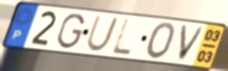2: (29, 11, 58, 48)
G: (56, 12, 86, 50)
L: (109, 17, 133, 57)
O: (144, 21, 177, 61)
U: (84, 15, 121, 54)
V: (176, 23, 207, 64)
